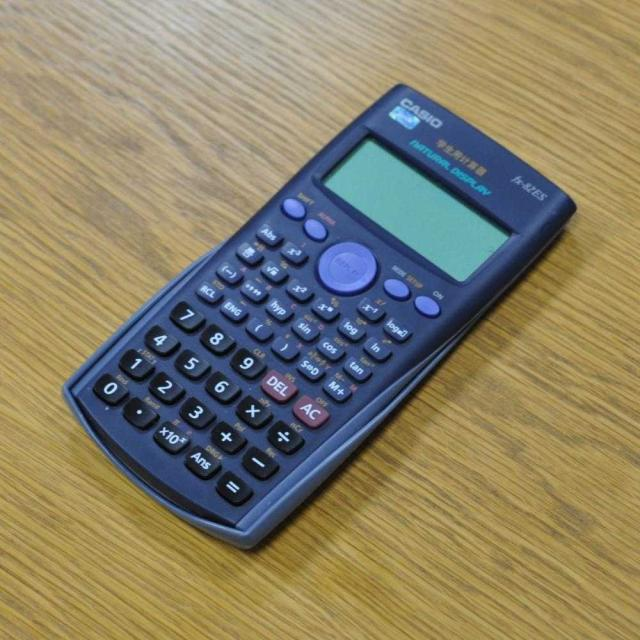Calculator: (60, 81, 577, 551)
